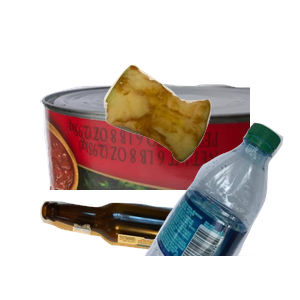glass: (37, 198, 236, 300)
metal: (37, 81, 277, 261)
plastic: (142, 120, 300, 300)
trash: (101, 62, 300, 217)
